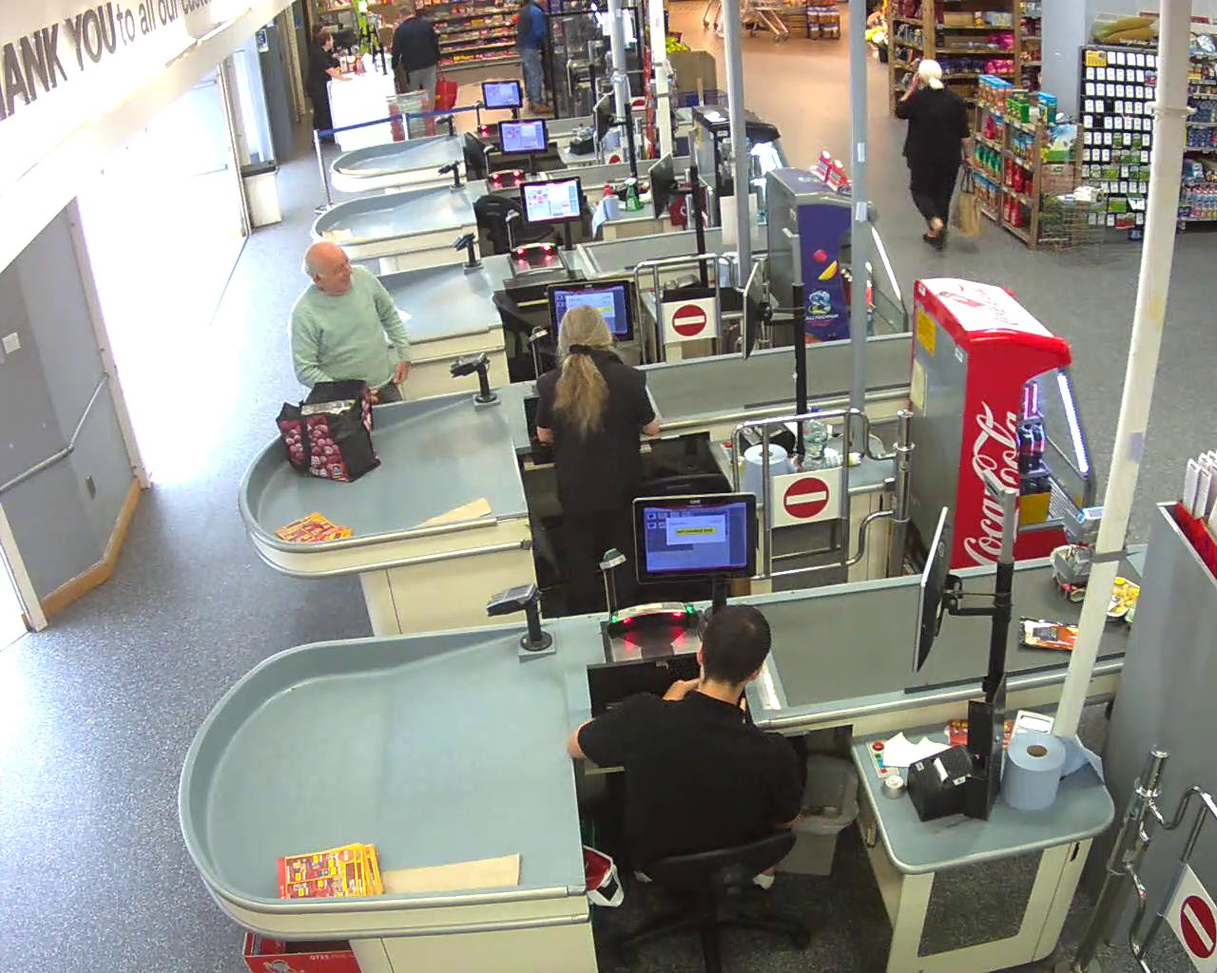filled-shopping-bags: (955, 171, 982, 238)
occupied-checkout-counter: (487, 489, 817, 929), (449, 279, 682, 518)
person: (896, 59, 974, 244)
person-with-filled-shopping-bag-s-: (896, 58, 983, 245)
vacant-checkout-counter: (453, 176, 610, 332), (436, 118, 581, 245), (434, 77, 564, 146)
